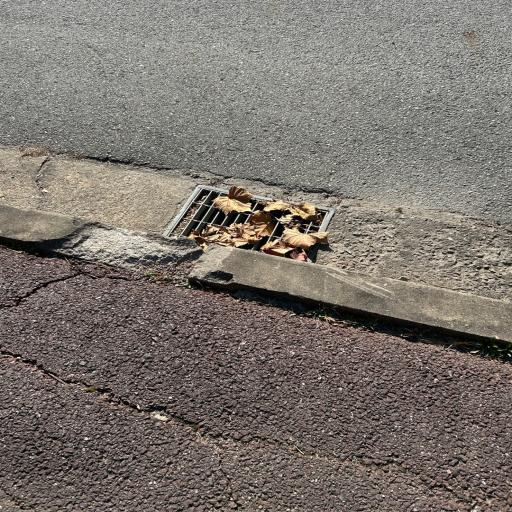debris: (189, 223, 273, 247), (214, 187, 254, 212), (264, 201, 316, 220), (283, 231, 325, 248), (249, 211, 272, 233), (262, 241, 292, 256), (289, 249, 308, 260), (278, 214, 295, 224)
drain: (162, 184, 335, 263)
